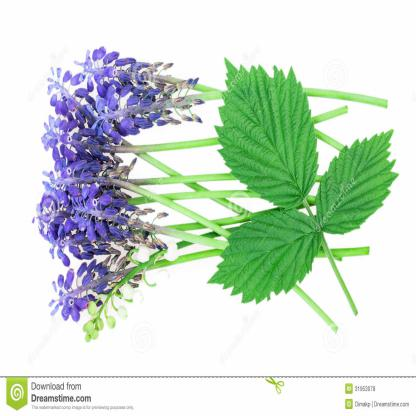raspberry leaf: (218, 57, 322, 206), (206, 206, 319, 308), (313, 126, 397, 238)
